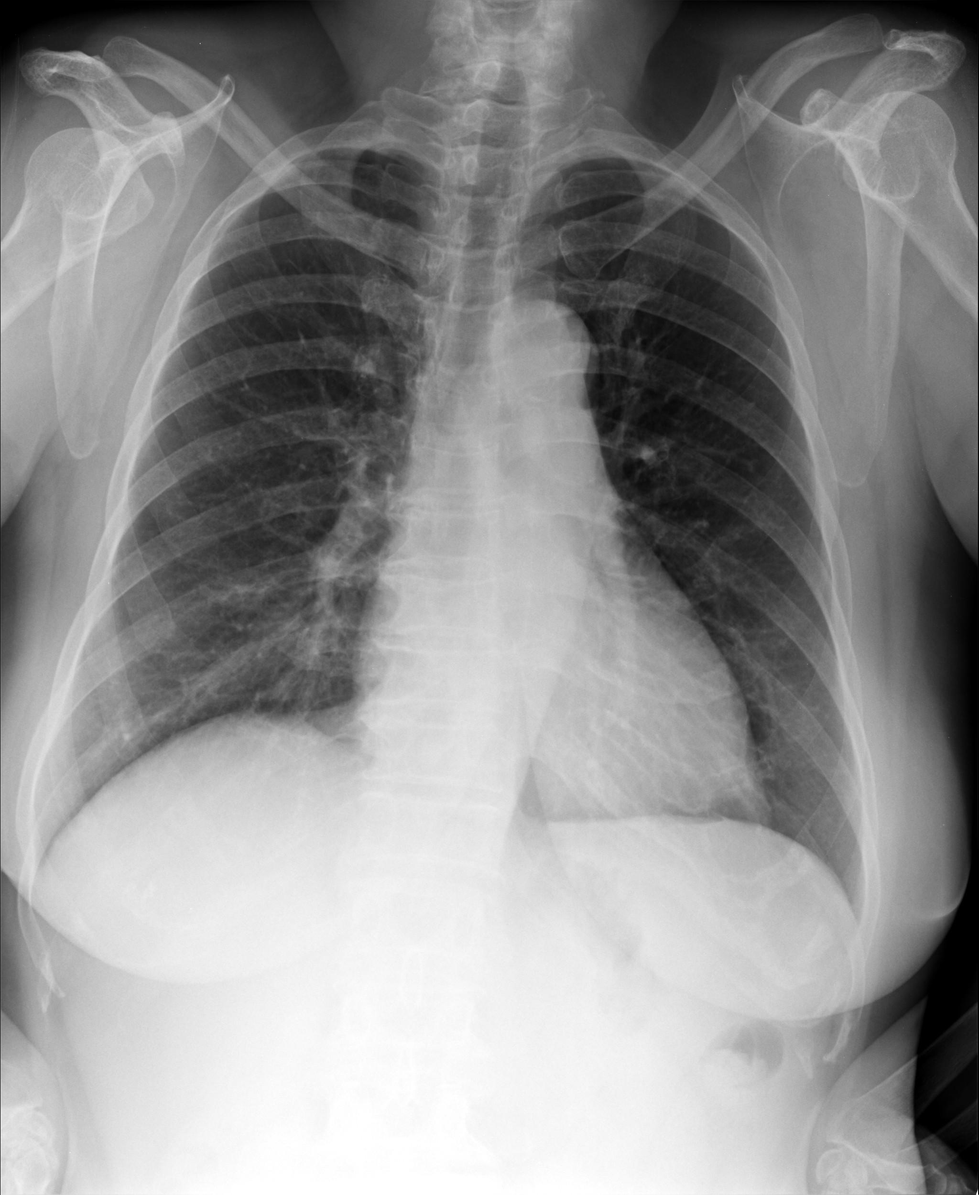Aortic enlargement: (485, 297, 598, 428)
